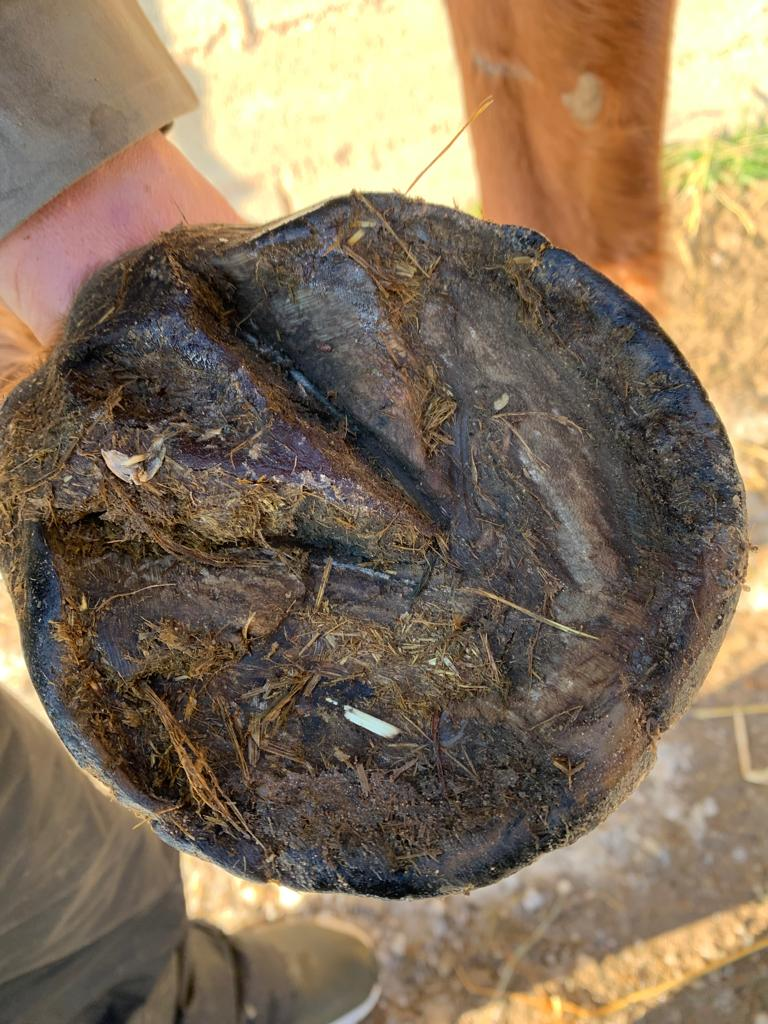horsesole: (21, 190, 749, 899)
